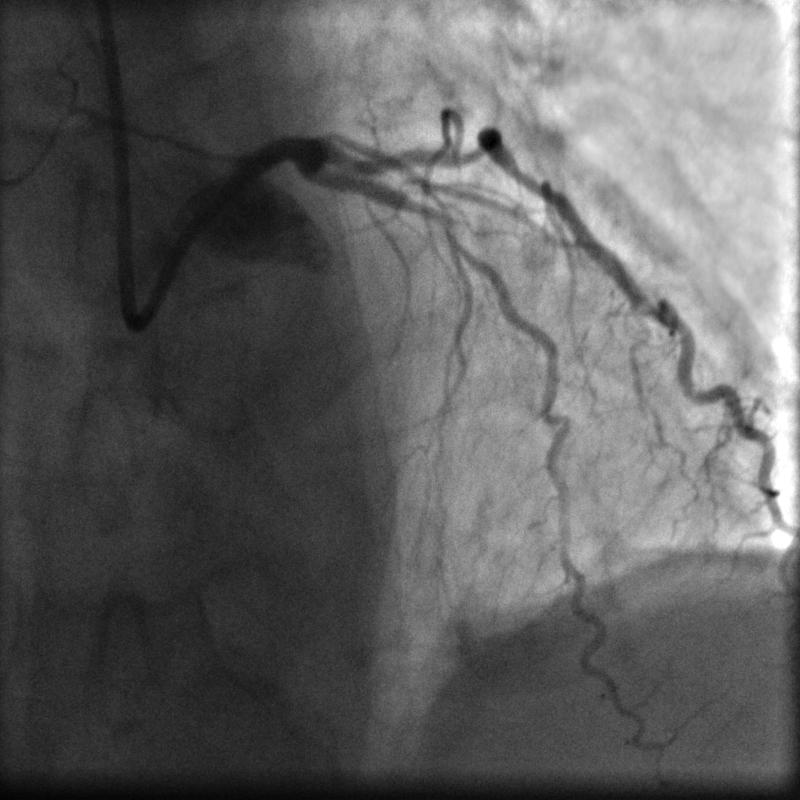Stenosis: (404, 191, 465, 240)
